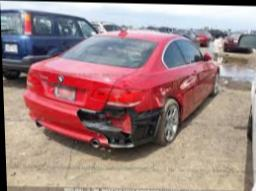Bumper: (77, 103, 165, 147)
